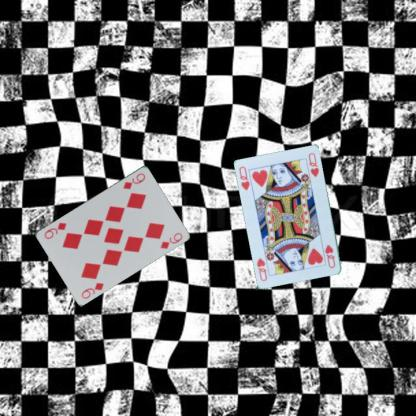9d: (120, 170, 147, 190), (79, 280, 105, 300)
Qh: (322, 242, 337, 269), (237, 164, 251, 192)
